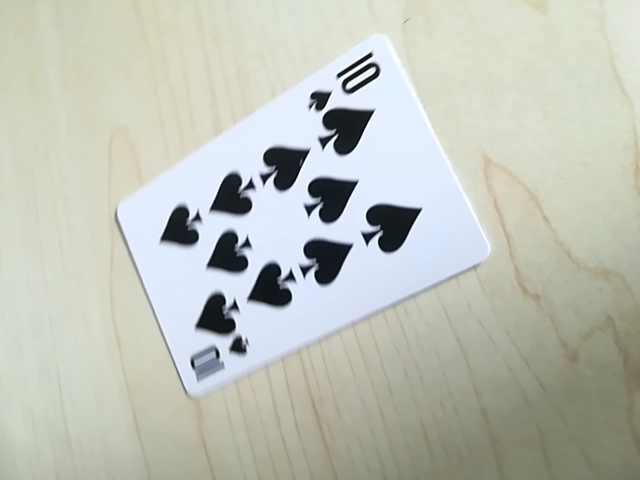ht 10: (305, 46, 388, 108), (183, 331, 252, 390)
